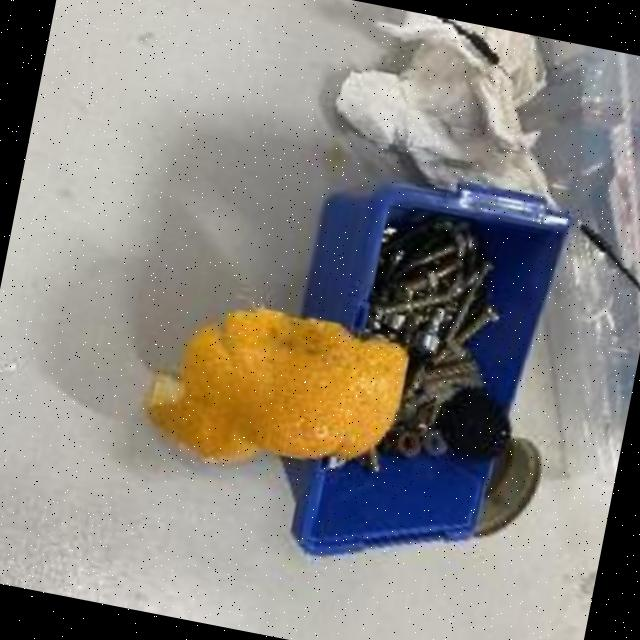orange-peel: (136, 283, 417, 497)
